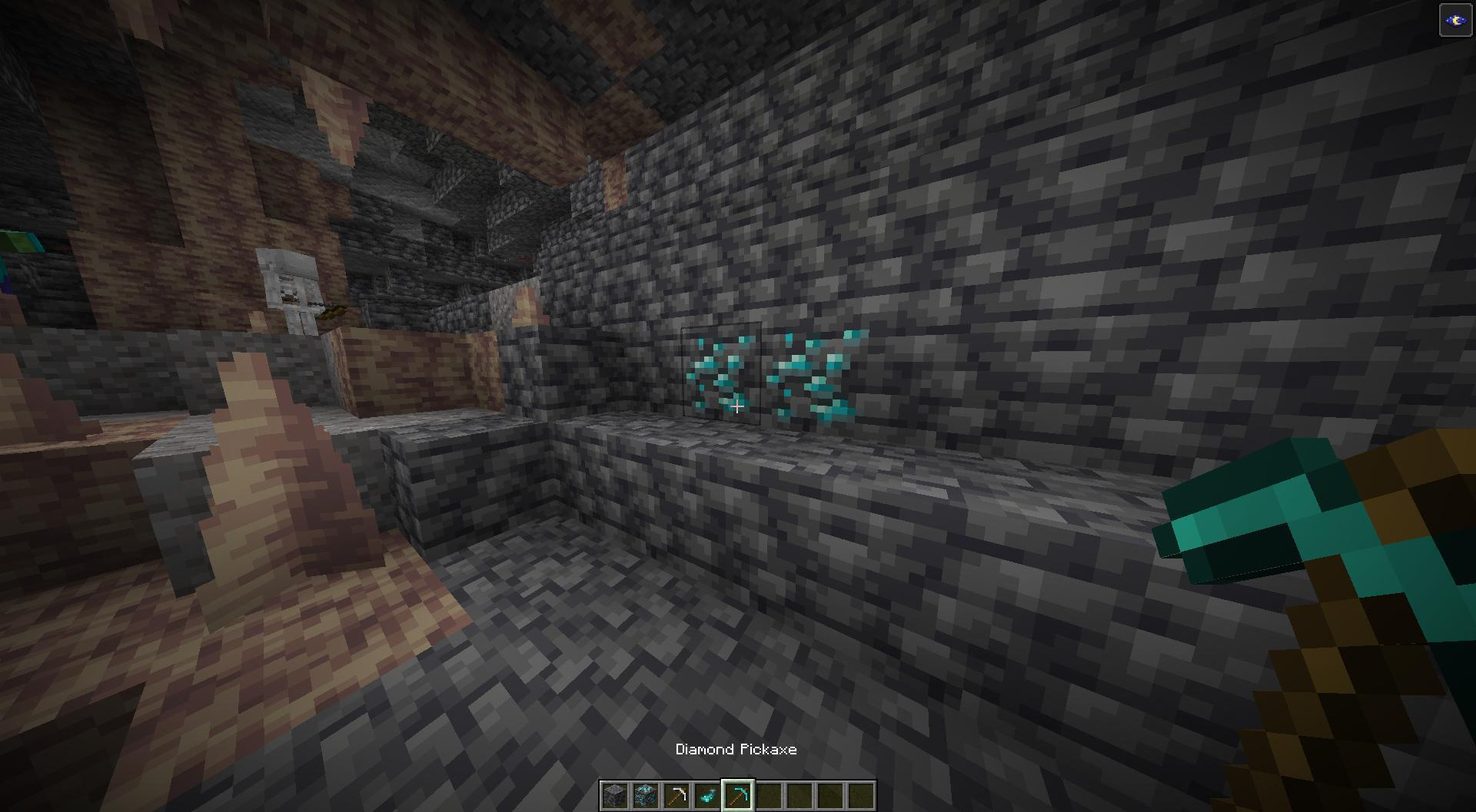diamond ore: (764, 324, 864, 439), (681, 323, 762, 424)
